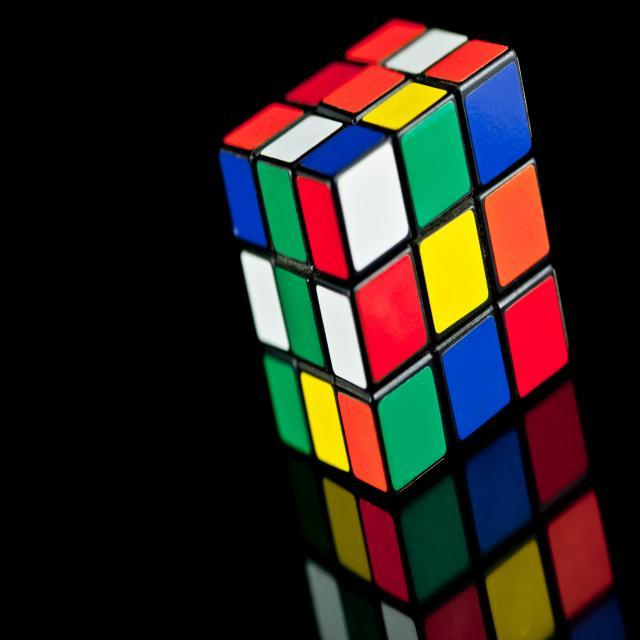Rub: (214, 20, 555, 398)
